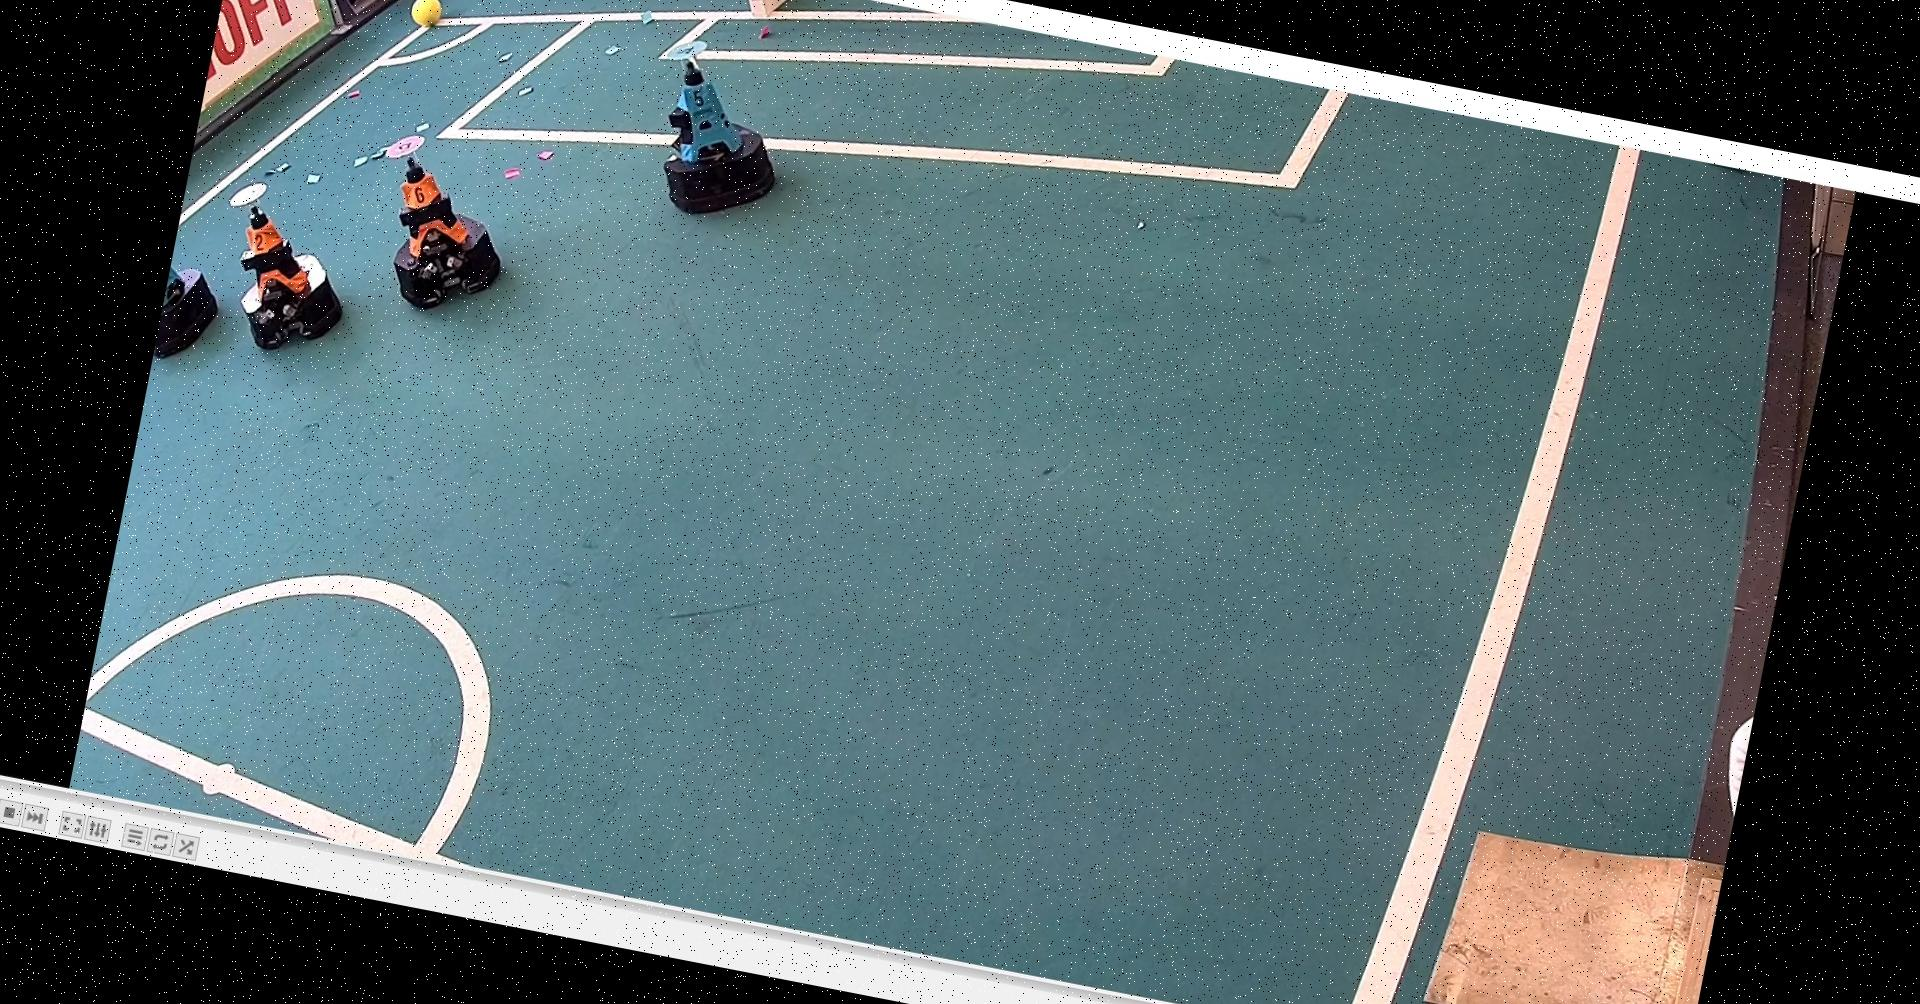Ball: (415, 0, 456, 30)
Team_Blue: (632, 25, 806, 234)
Team_Red: (353, 118, 528, 321), (199, 170, 368, 364)
